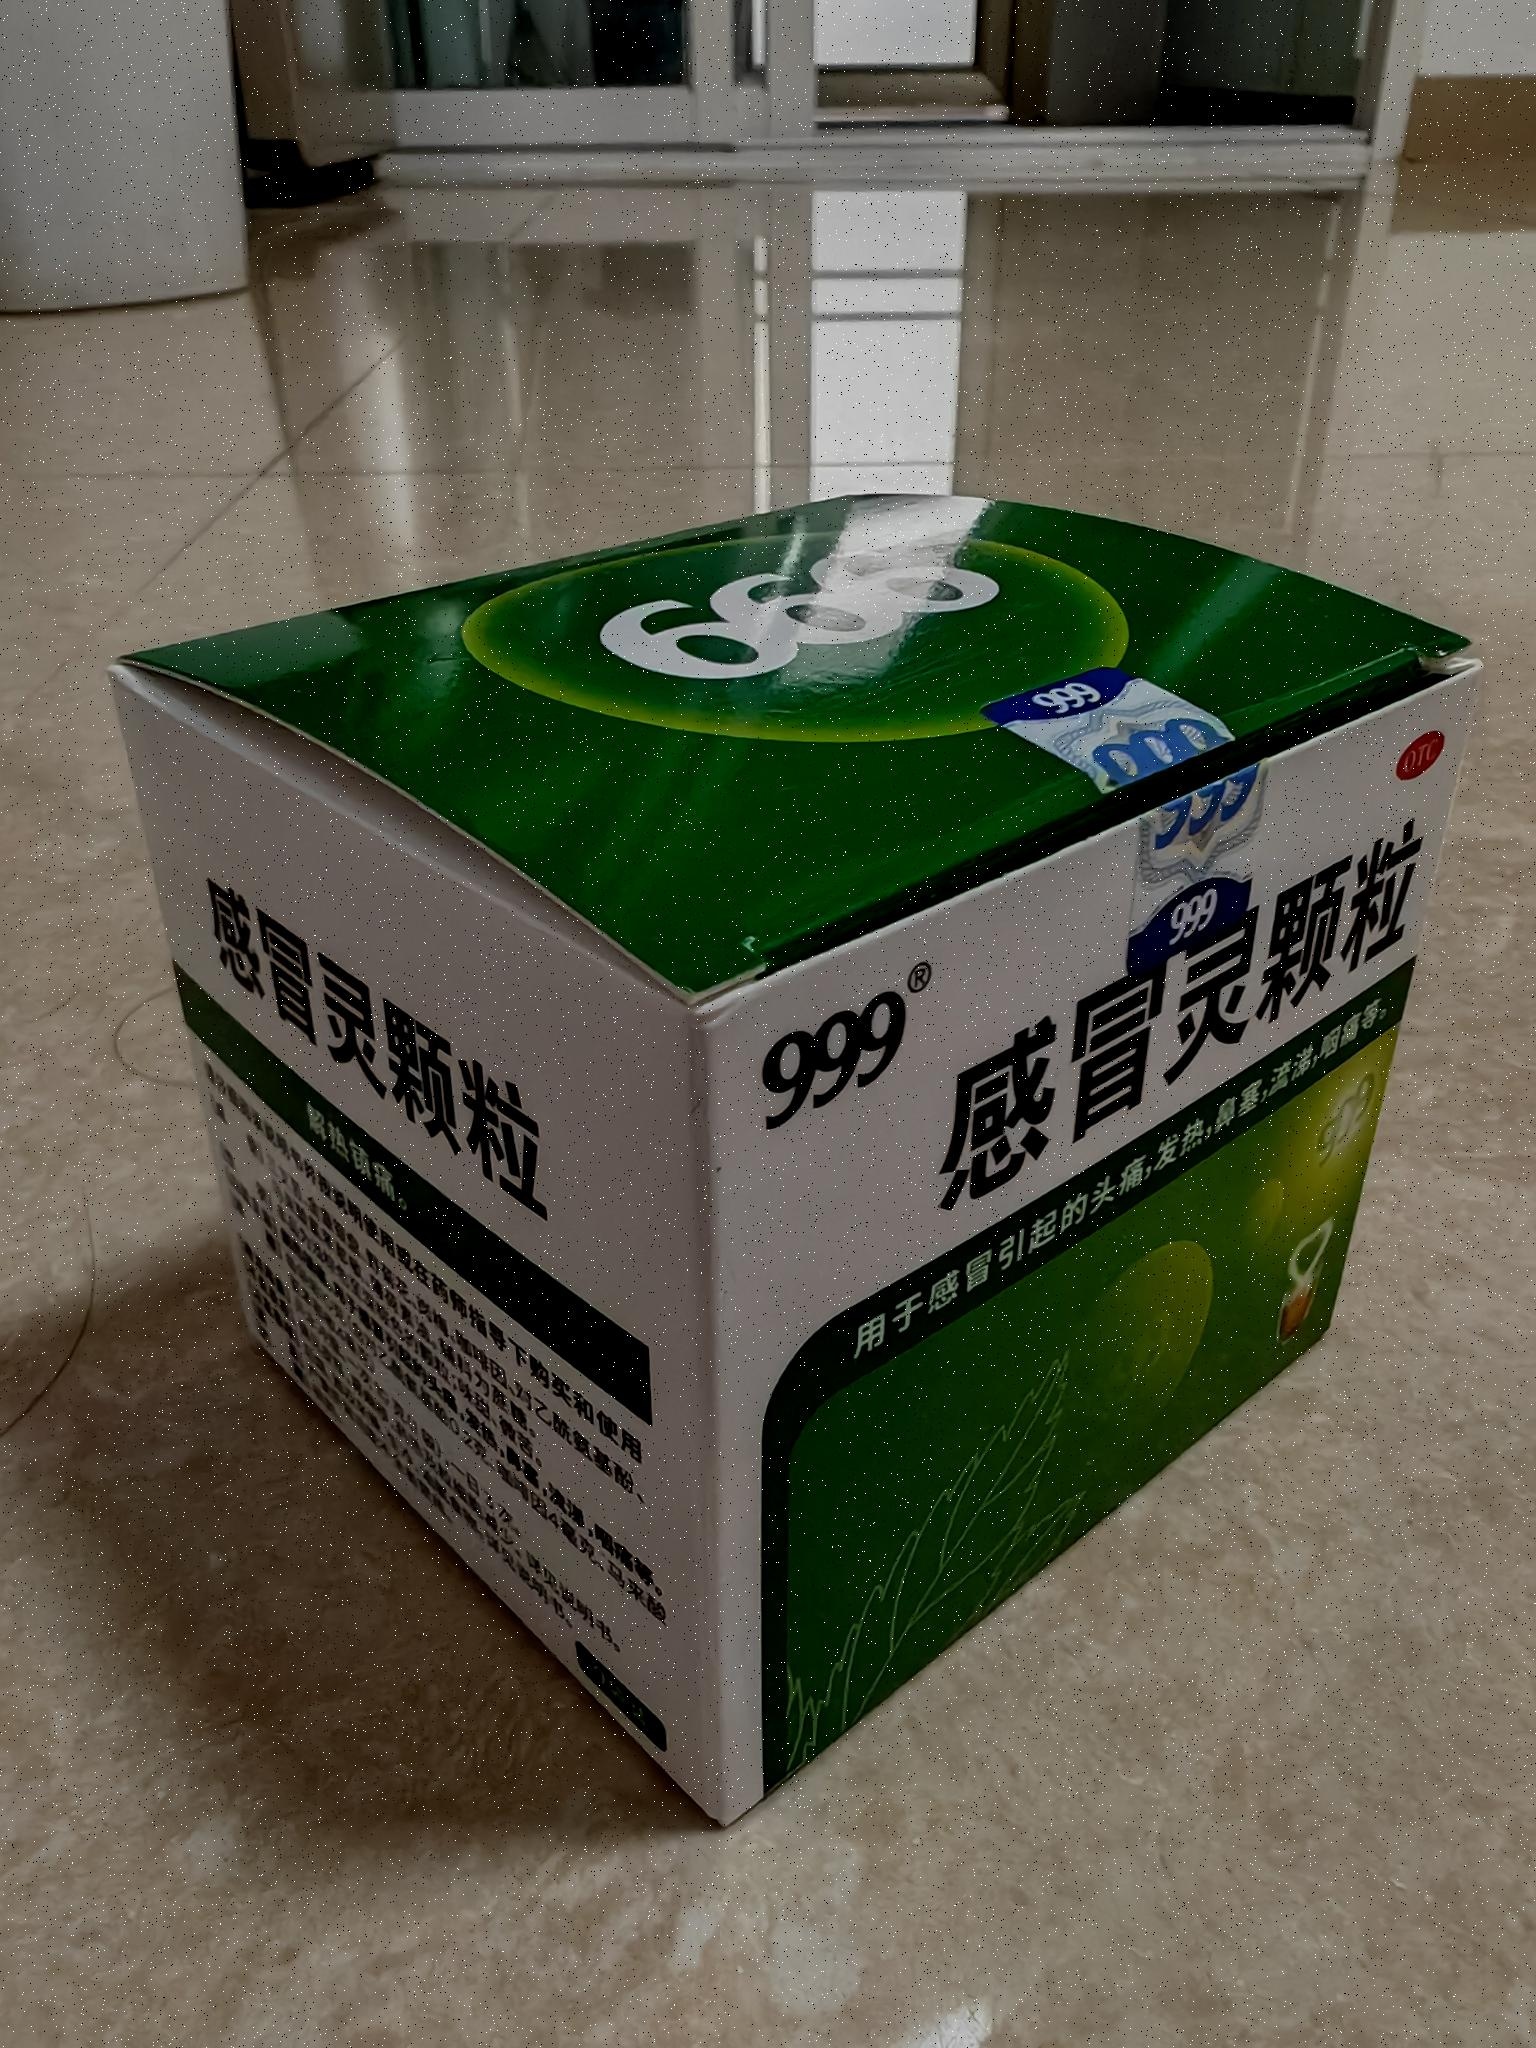Medicine3: (95, 463, 1496, 1848)
